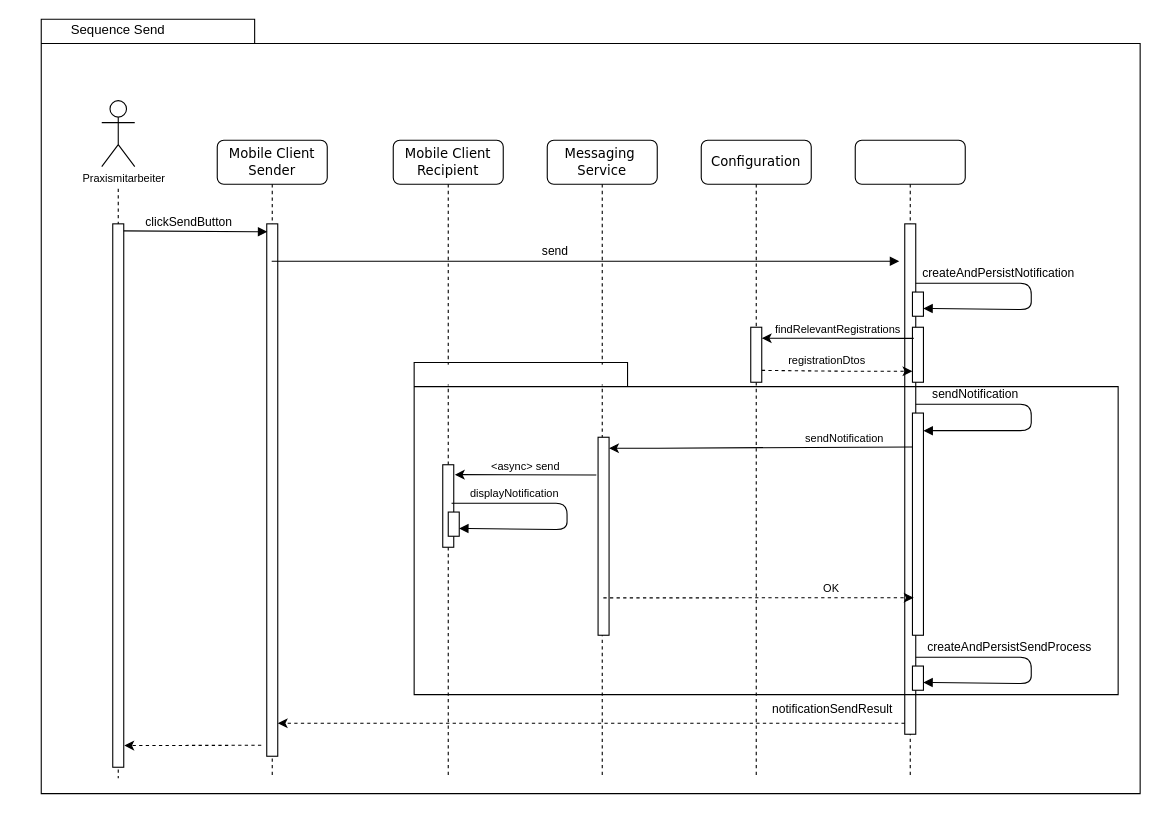
The diagram is 1159 pixels wide and 813 high, and some of its shapes have lost their labels. The shapes that lost their labels are listed below. From the top down, each one's box as (x1, y1, x2, y2) in pixels, then its label:
(416, 364, 603, 384): For Each RegistrationDto
(854, 139, 965, 778): Notification
